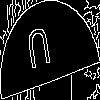U: (25, 25, 53, 80)
